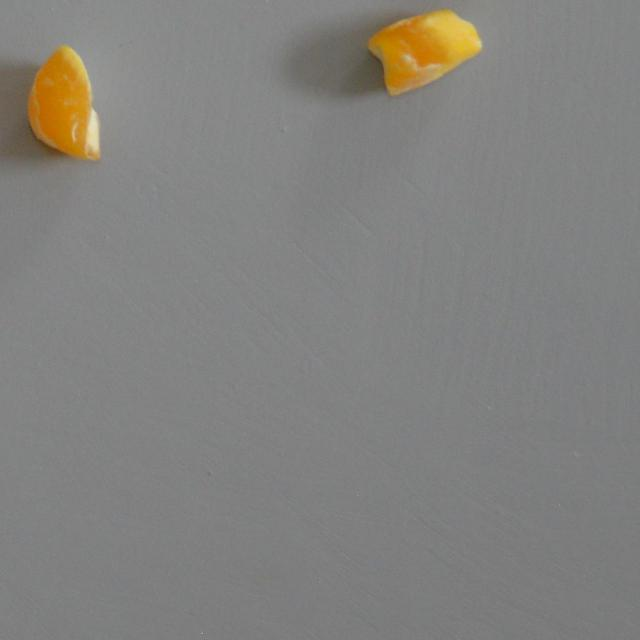pelicula: (366, 8, 482, 98), (26, 44, 100, 161)
